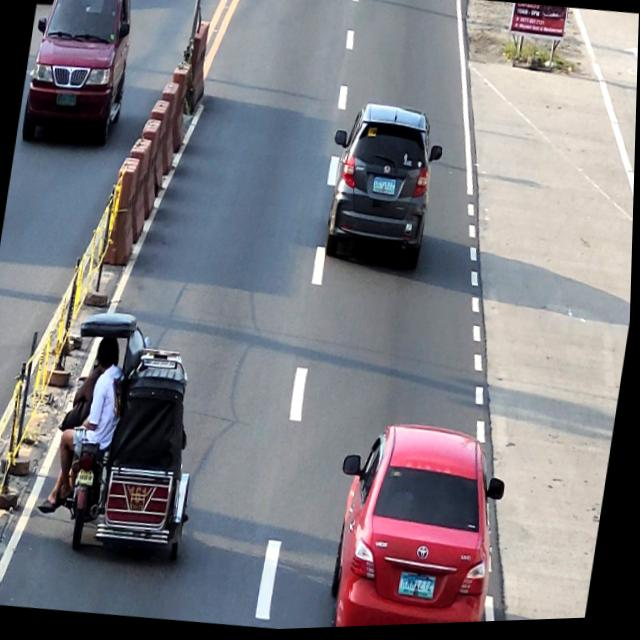Car: (323, 418, 515, 630), (319, 100, 449, 282), (21, 0, 141, 144)
License-Plate: (401, 574, 440, 602), (374, 178, 397, 198), (80, 469, 97, 487), (56, 93, 76, 107)
Tricycle: (47, 310, 220, 562)
